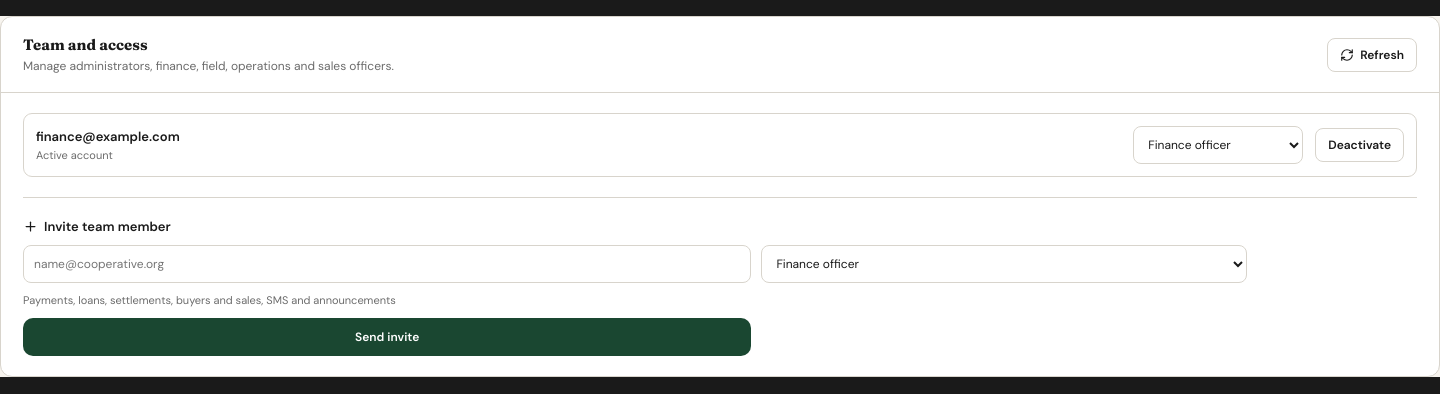
it: GovernanceSettings › offers only cooperative roles in the invite picker (#255)
Select "Sales officer" in the dropdown named "New user role" at x=1004, y=264, box [761,245,1247,283]
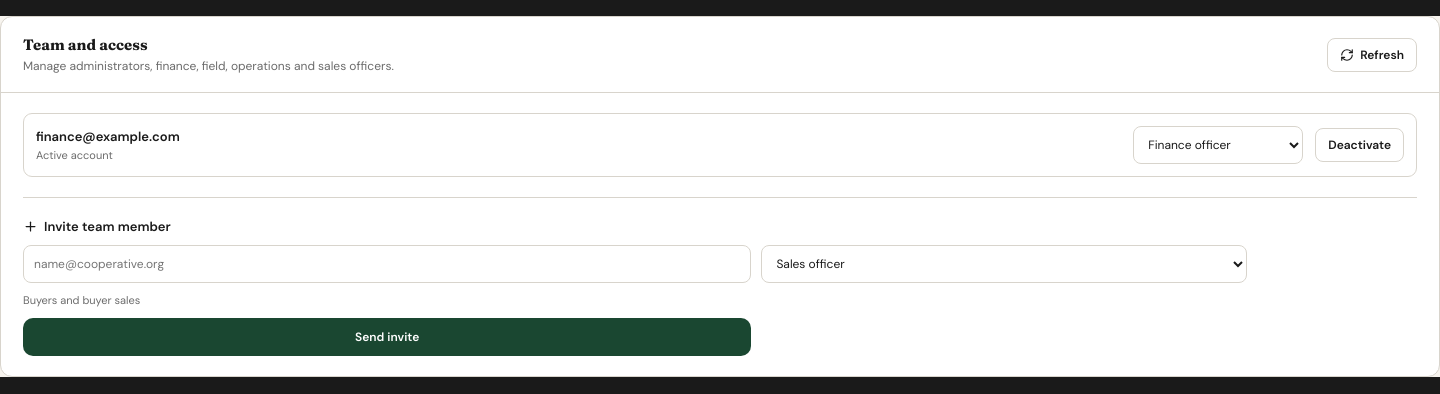
Expected: the text "Buyers and buyer sales" is shown, [23,293,140,307]
